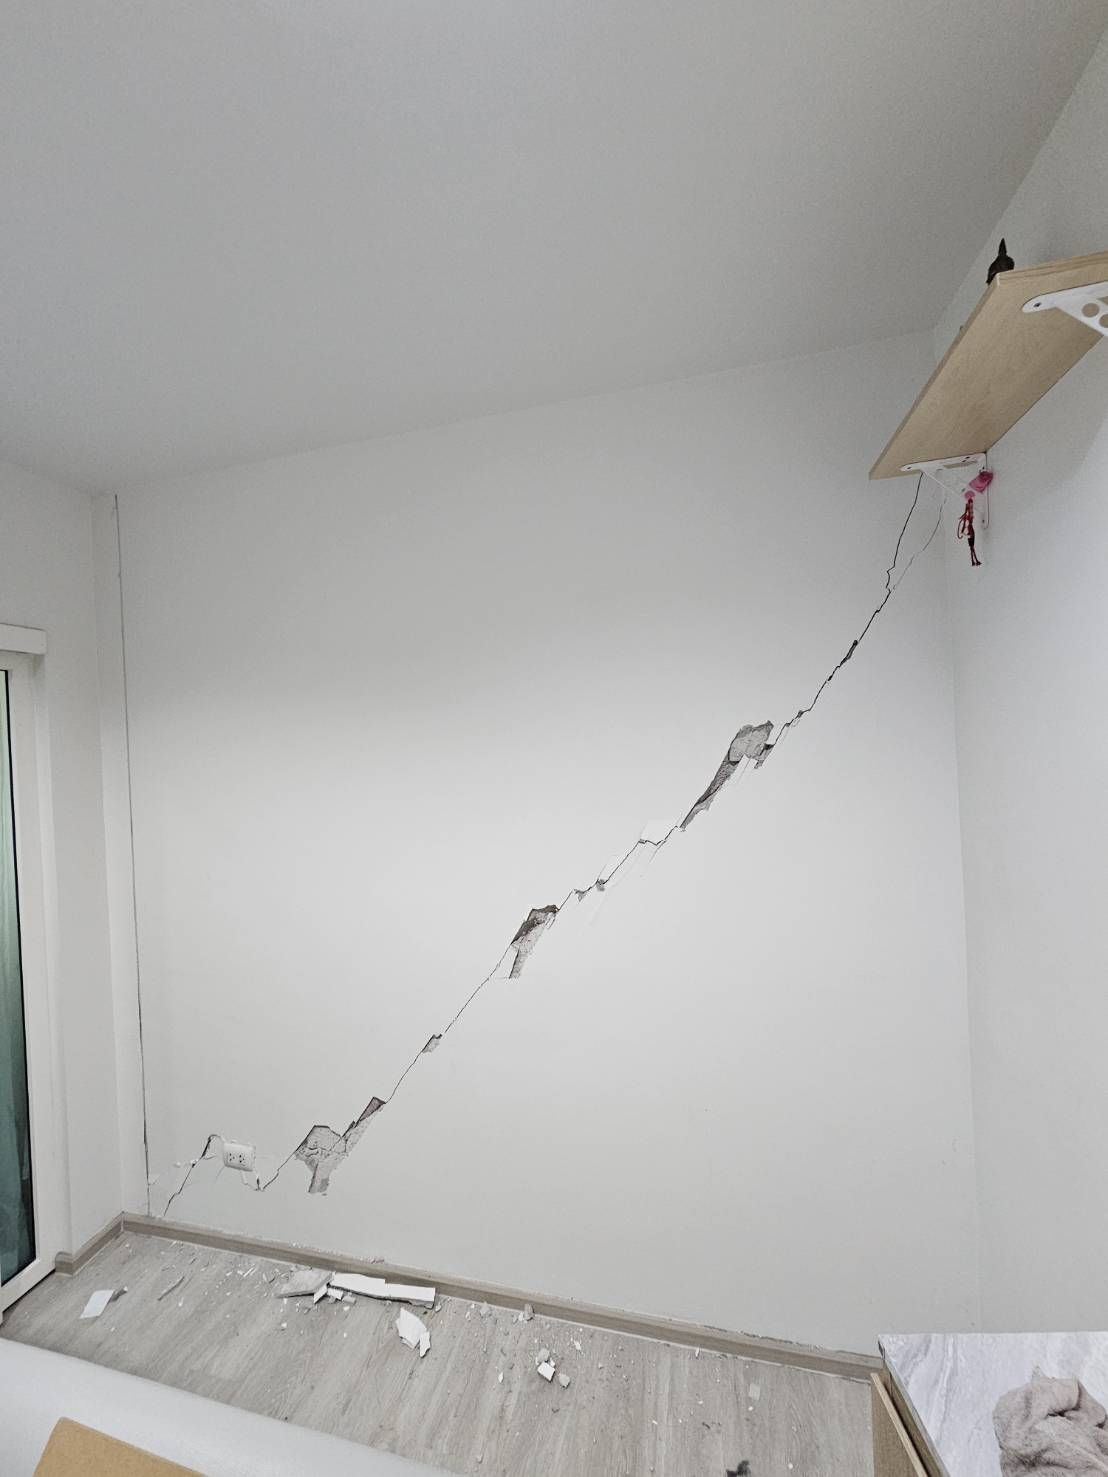High: (106, 491, 947, 1222)
